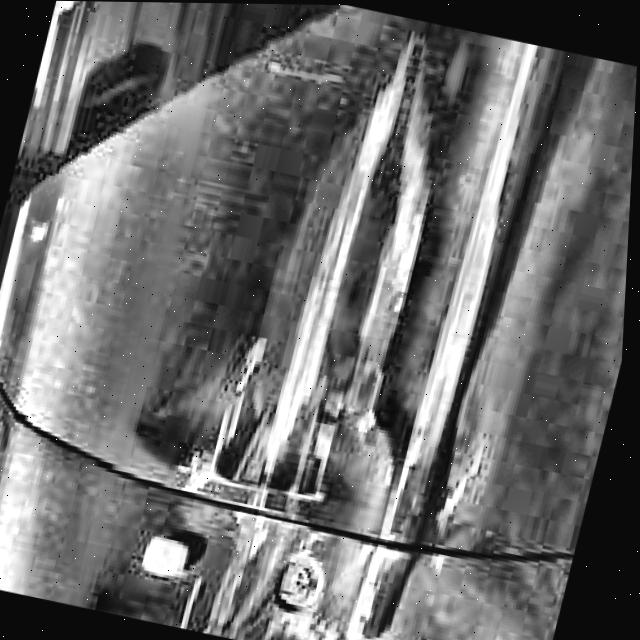door_dent: (81, 6, 557, 640)
